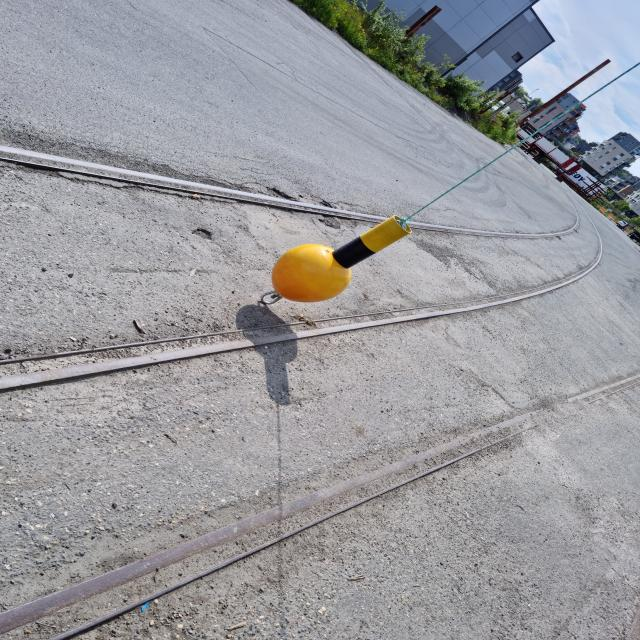west: (272, 218, 412, 303)
